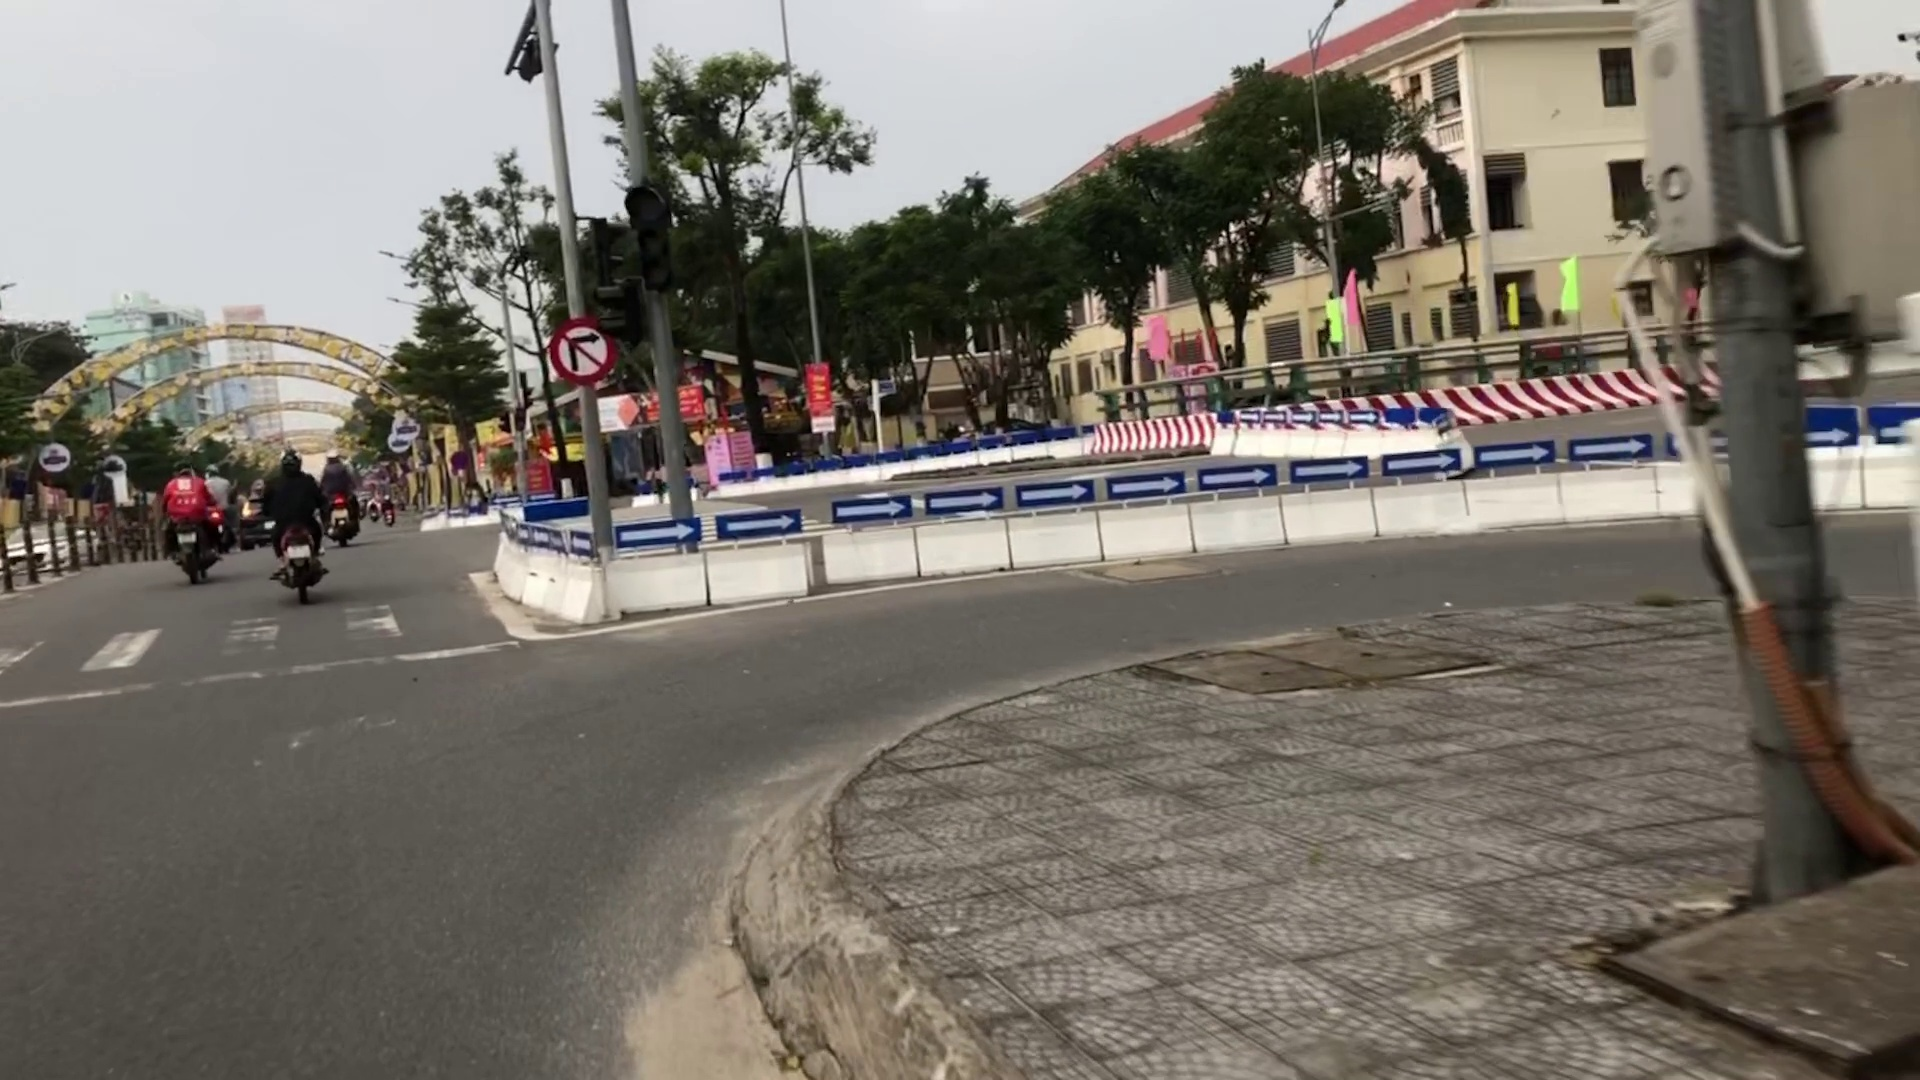Bien khac: (555, 319, 611, 386)
